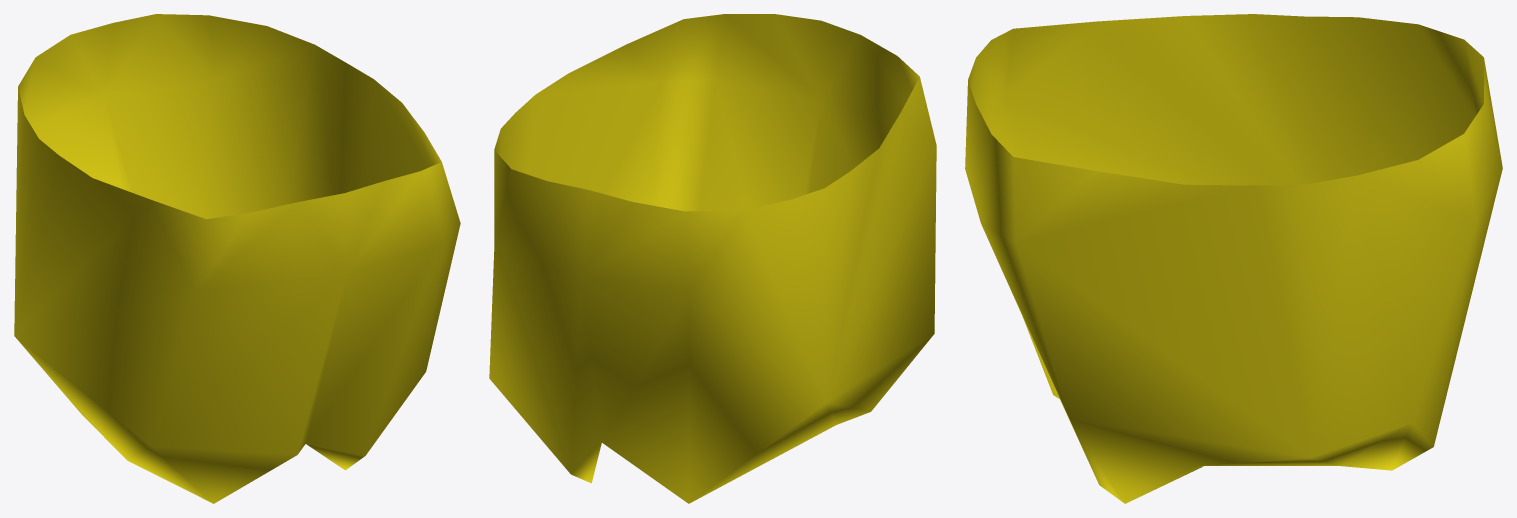
Rendered from D27N_NUC.obj.
The picture shows the model from 3 angles, left to right: view 1: azimuth 30°, elevation 25°; view 2: azimuth 150°, elevation 25°; view 3: azimuth 270°, elevation 25°; orthographic projection. The views are drawn at different scales.
Visible parts, largest first — view 1: D27N_NUC; view 2: D27N_NUC; view 3: D27N_NUC.
Boxes of the visible parts, x1,y1,x2,y2 form: D27N_NUC: [14, 14, 460, 503]; D27N_NUC: [489, 14, 936, 503]; D27N_NUC: [965, 14, 1502, 503].
Size of the model in its own units: 5.03 by 5.13 by 6.47.
